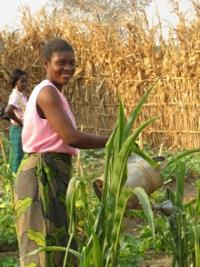person: (14, 35, 143, 266)
